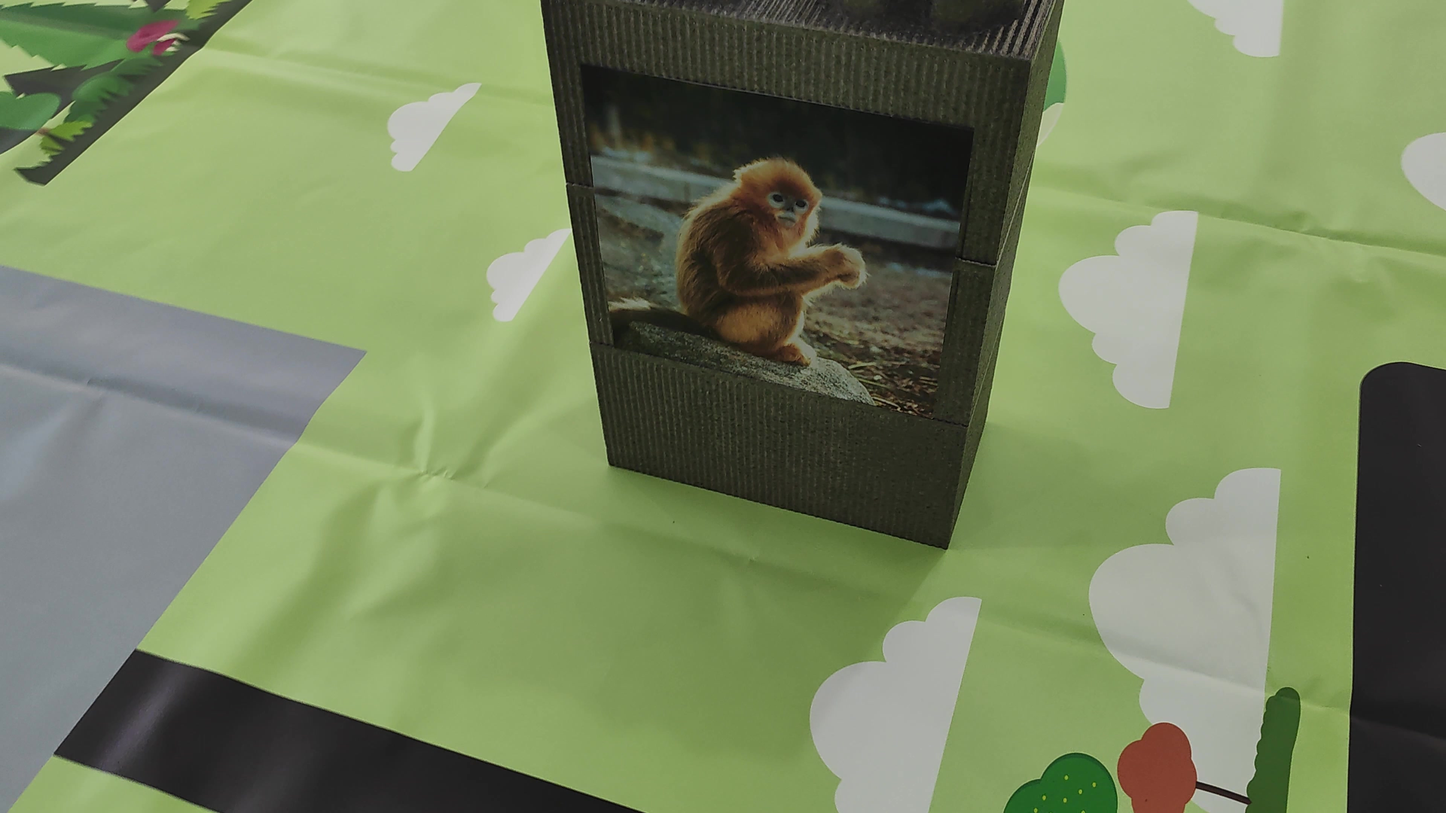monkey: (656, 150, 916, 386)
